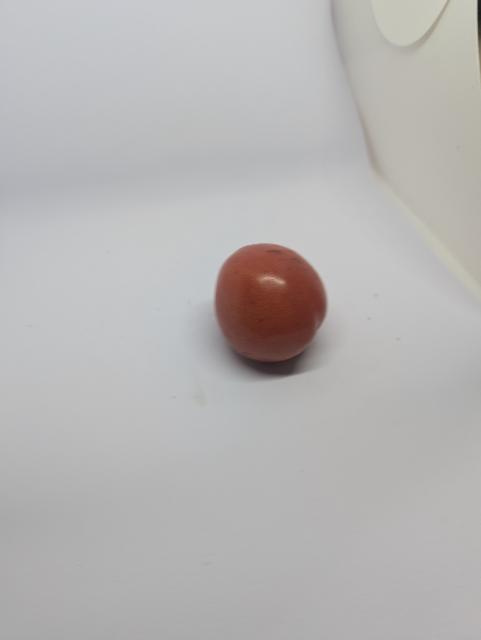red: (204, 227, 335, 373)
